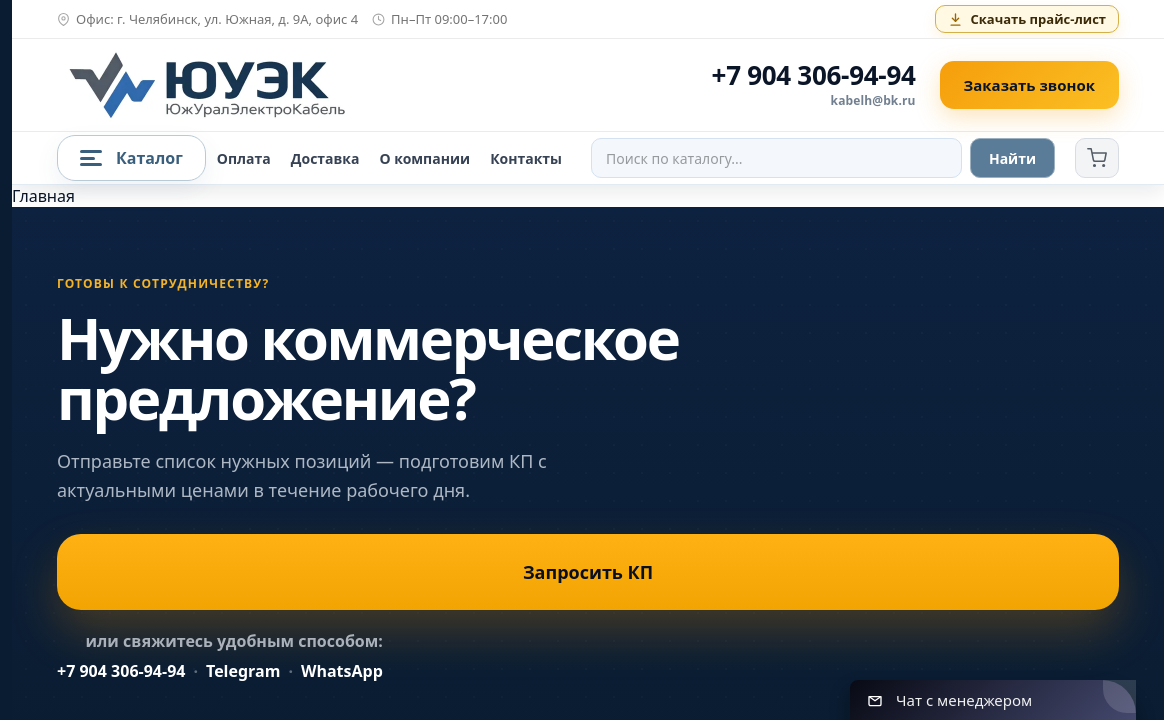
MainLayout › рендерит поиск в шапке как полноценный combobox с listbox и option
The width and height of the screenshot is (1164, 720).
Type "В" into the dropdown labelled "Поиск по каталогу" at (776, 158), box x1=591 y1=138 x2=962 y2=178
Wait 300 ms
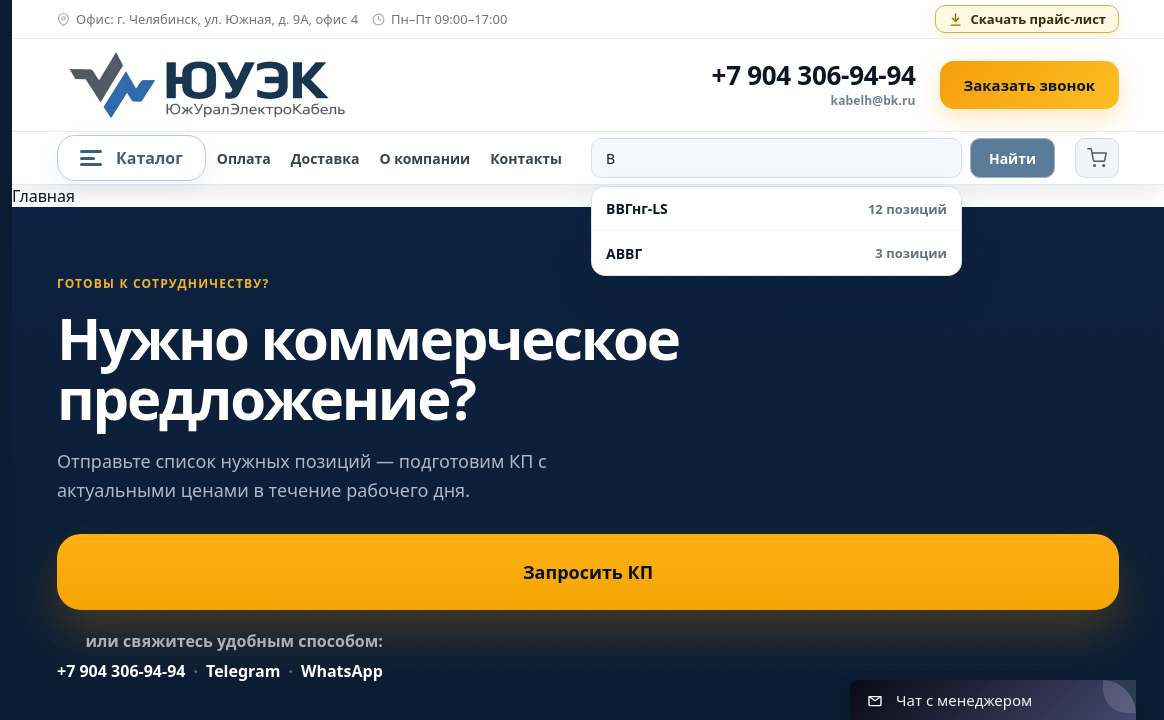
Now the dropdown named "Поиск по каталогу" is expanded
Now the number of options is 2, box x1=592 y1=187 x2=961 y2=231; x1=592 y1=231 x2=961 y2=275
Now the option "ВВГнг-LS 12 позиций" is shown, box x1=592 y1=187 x2=961 y2=231
Press ArrowDown in the dropdown named "Поиск по каталогу", box x1=591 y1=138 x2=962 y2=178
Press ArrowDown in the dropdown named "Поиск по каталогу", box x1=591 y1=138 x2=962 y2=178
Press Enter in the dropdown named "Поиск по каталогу", box x1=591 y1=138 x2=962 y2=178
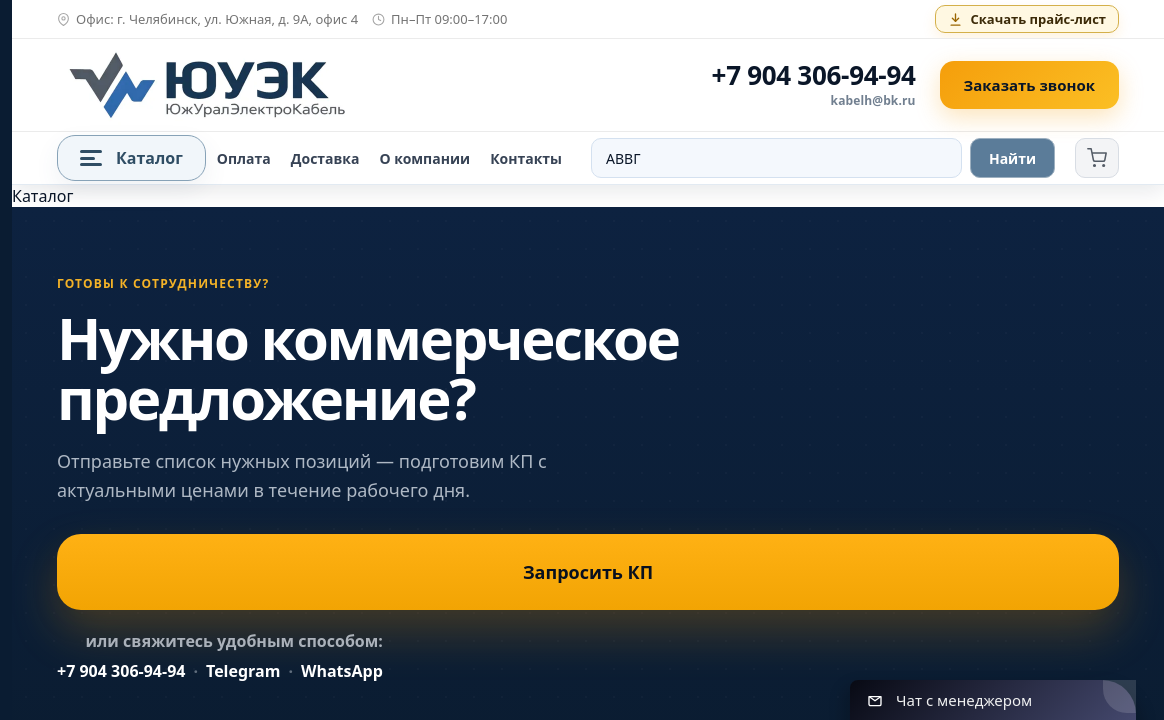
Now the dropdown named "Поиск по каталогу" holds "АВВГ", box x1=591 y1=138 x2=962 y2=178
Now the list is gone
